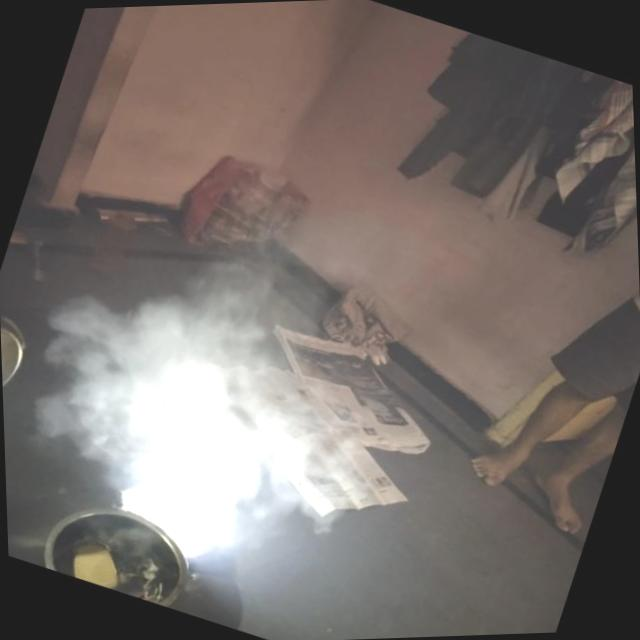smoke: (90, 318, 354, 592)
